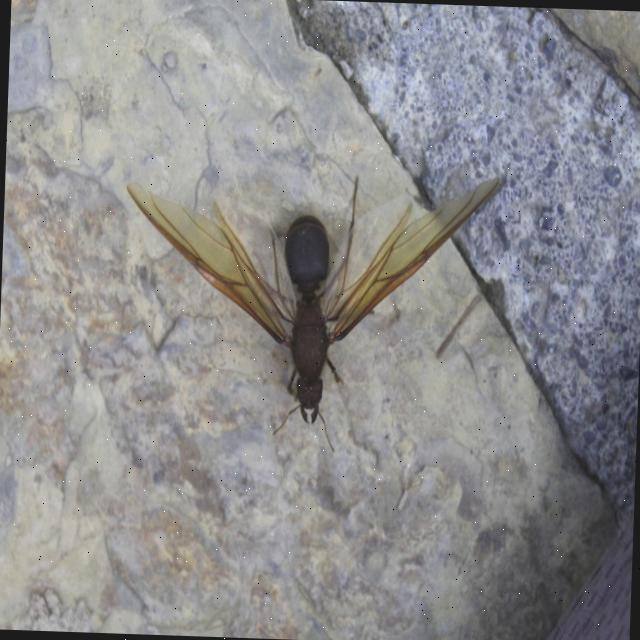Alive-Female-Alate: (116, 162, 501, 458)
